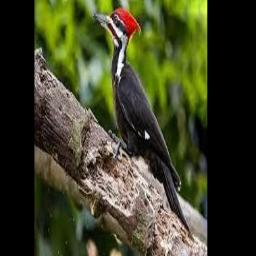Woodpecker: (93, 6, 192, 235)
